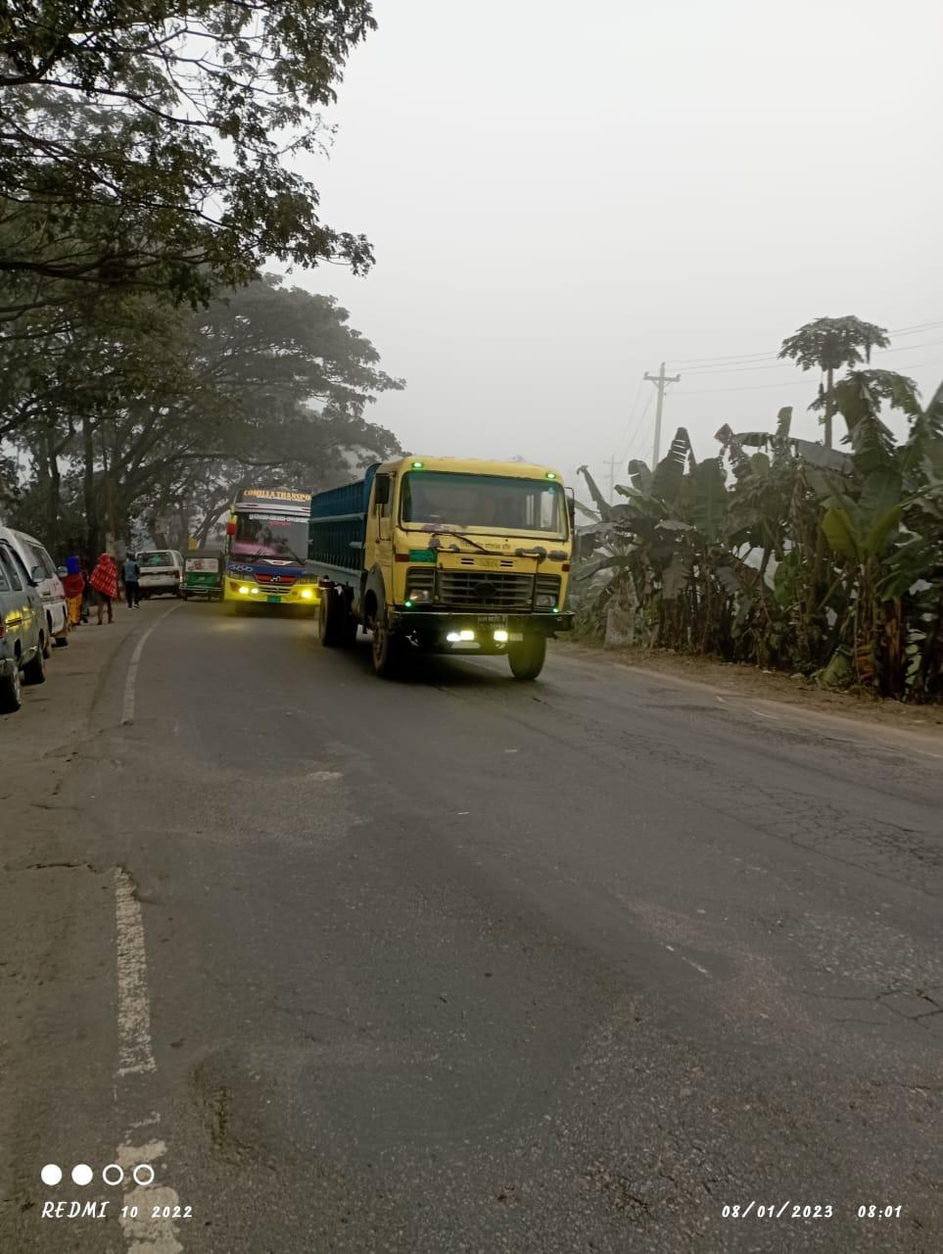Bus: (221, 483, 327, 618)
Car: (130, 542, 186, 603)
Truck: (306, 444, 570, 691)
